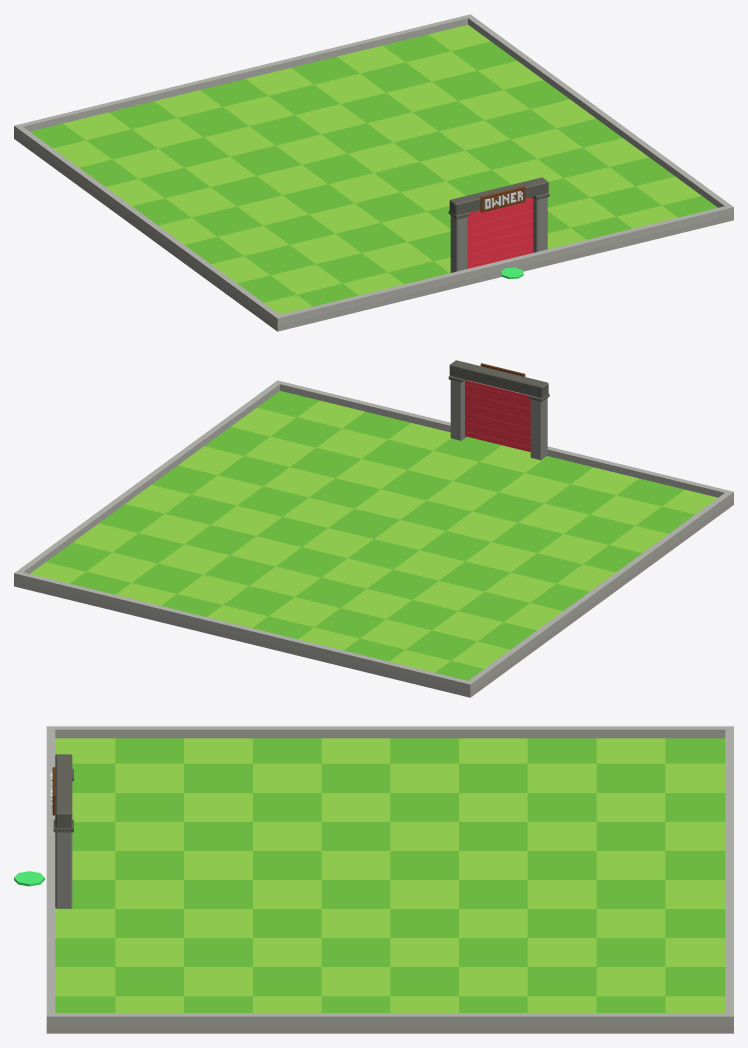
File: TycoonPlot.fbx
The picture shows the model from 3 angles, top to bottom: view 1: azimuth 30°, elevation 25°; view 2: azimuth 150°, elevation 25°; view 3: azimuth 270°, elevation 25°; orthographic projection. The views are drawn at different scales.
Visible parts, largest first — view 1: TycoonPlot, TycoonPlot_Laser; view 2: TycoonPlot, TycoonPlot_Laser; view 3: TycoonPlot.
Part boxes in pixels (box(x1,y1,x2,y2)): TycoonPlot: box(14, 14, 733, 331); TycoonPlot_Laser: box(467, 197, 533, 268); TycoonPlot: box(14, 360, 733, 697); TycoonPlot_Laser: box(464, 380, 530, 451); TycoonPlot: box(14, 726, 733, 1033).
Size of the model in its own units: 80 by 13.85 by 83.8.
1 material, 1 textured.
